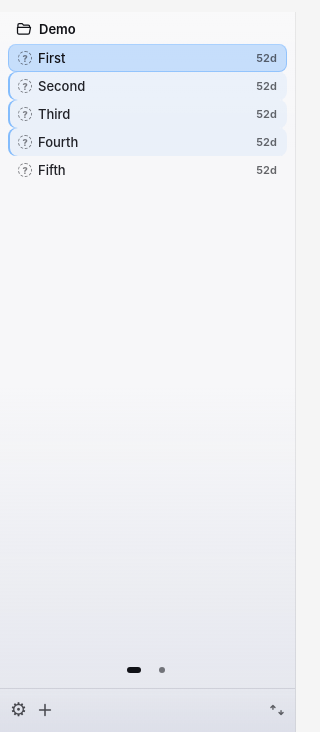
Test case: sidebar Session pane drag › disables row dragging while the title editor is open
Double-click the button with class "session" showing "Third 52d": (54, 114) [8,100,287,128]
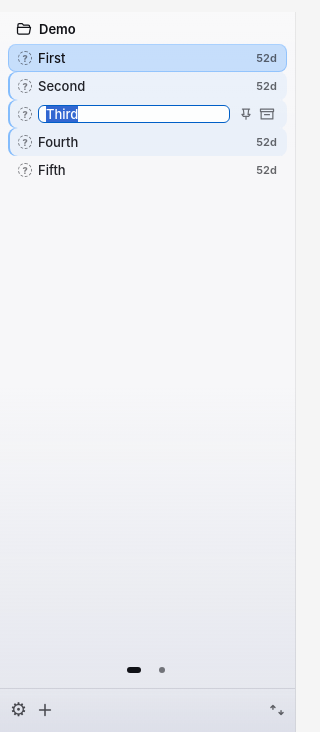
Check: the field with class "session-title-input" is shown, box [38,105,230,123]
